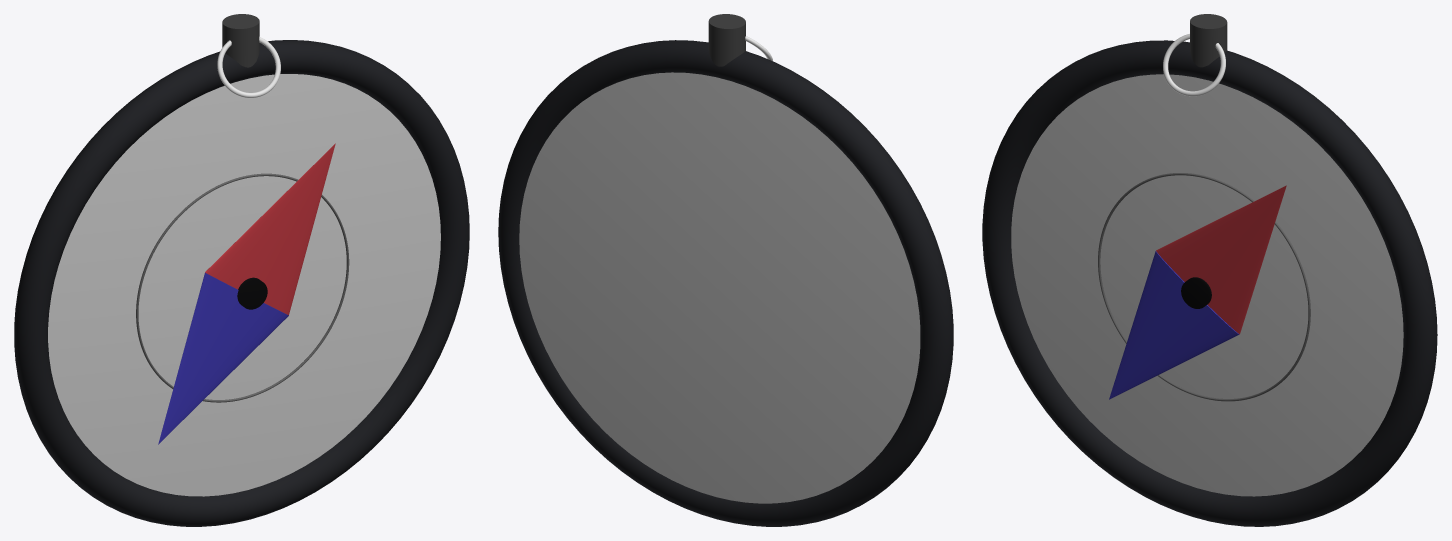
File: compas1.glb
3 renders of one model, left to right at view 1: azimuth 30°, elevation 25°; view 2: azimuth 150°, elevation 25°; view 3: azimuth 330°, elevation 25°, orthographic.
Visible parts, largest first — view 1: Cylinder, Torus.006, Cone.001, Cone, Torus.001, Cylinder.002, Torus.003, Cylinder.001; view 2: Cylinder, Torus.006, Cylinder.002; view 3: Cylinder, Torus.006, Cone, Cone.001, Torus.001, Cylinder.002, Torus.003, Cylinder.001.
Boxes of the visible parts, bbox=[...] form: Cylinder: bbox=[48, 74, 440, 496]; Torus.006: bbox=[14, 40, 469, 526]; Cone.001: bbox=[158, 272, 288, 444]; Cone: bbox=[205, 143, 335, 315]; Torus.001: bbox=[136, 173, 349, 402]; Cylinder.002: bbox=[222, 14, 259, 67]; Torus.003: bbox=[217, 37, 280, 97]; Cylinder.001: bbox=[237, 277, 267, 309]; Cylinder: bbox=[519, 72, 920, 503]; Torus.006: bbox=[498, 40, 953, 526]; Cylinder.002: bbox=[708, 14, 745, 66]; Cylinder: bbox=[1011, 74, 1403, 496]; Torus.006: bbox=[982, 40, 1437, 526]; Cone: bbox=[1156, 185, 1286, 334]; Cone.001: bbox=[1109, 251, 1239, 399]; Torus.001: bbox=[1098, 173, 1310, 401]; Cylinder.002: bbox=[1190, 14, 1227, 67]; Torus.003: bbox=[1163, 34, 1225, 96]; Cylinder.001: bbox=[1181, 277, 1211, 308].
Size of the model in its own units: 1.83 by 1.93 by 0.2065.
